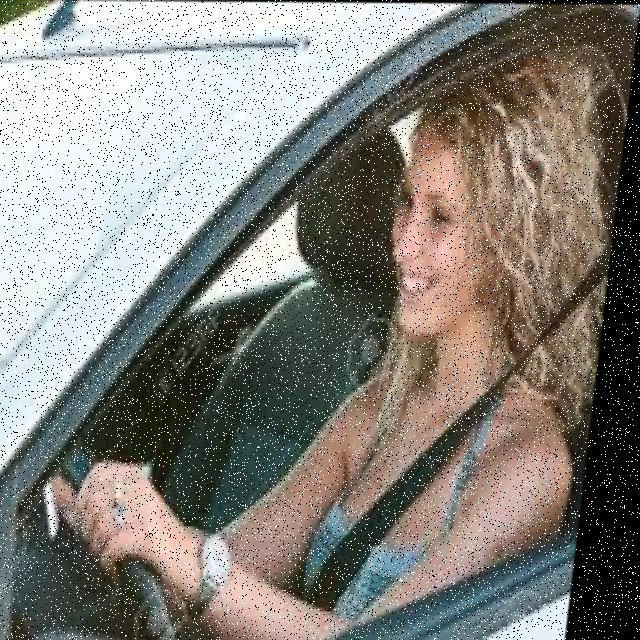seatbelt: (316, 336, 594, 640)
